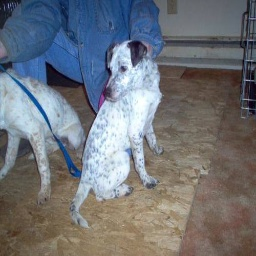dog: (72, 39, 165, 225)
